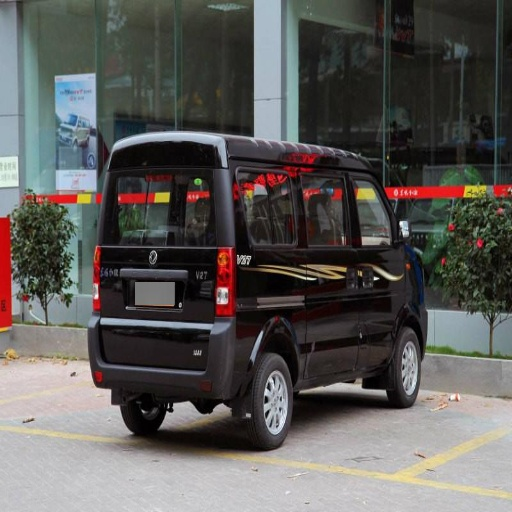back_bumper: (89, 317, 225, 397)
trunk: (102, 186, 386, 391)
